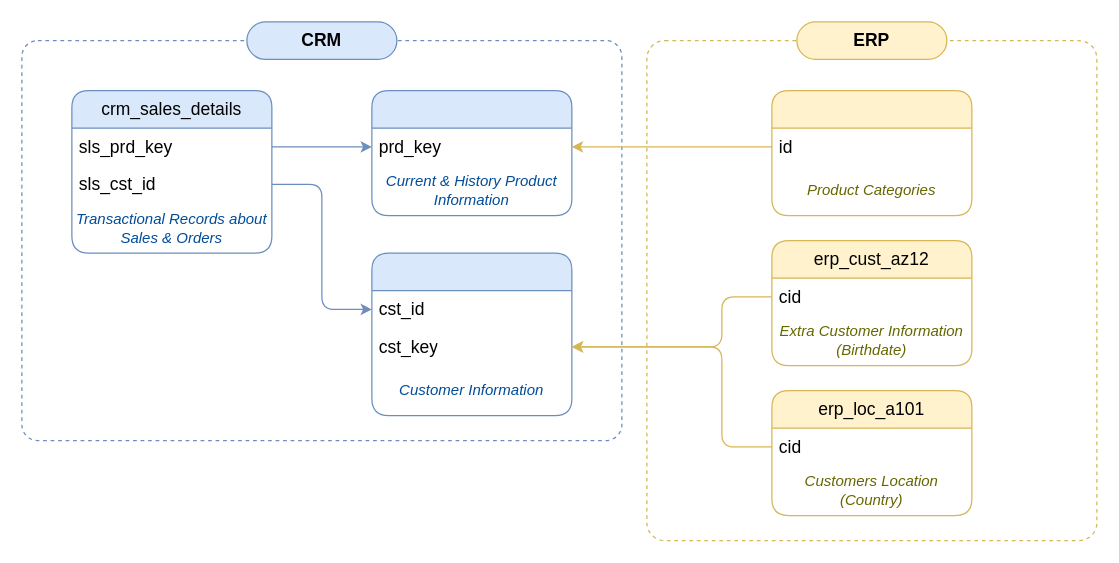
The diagram is 1119 pixels wide and 563 high, and some of its shapes have lost their labels. The shapes that lost their labels are listed below. From the top down, each one's box as (x1, y1, x2, y2) in pixels, then its label:
(371, 89, 572, 216): crm_prd_info
(771, 89, 972, 216): erp_px_cat_g1v2
(371, 252, 572, 416): crm_cust_info
